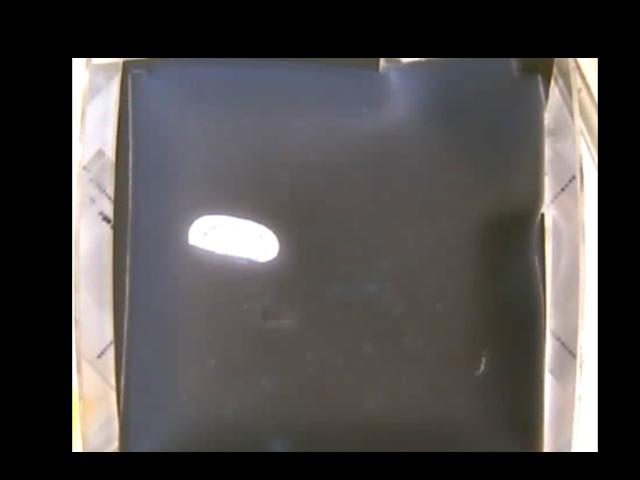Pebble: (186, 212, 279, 263)
